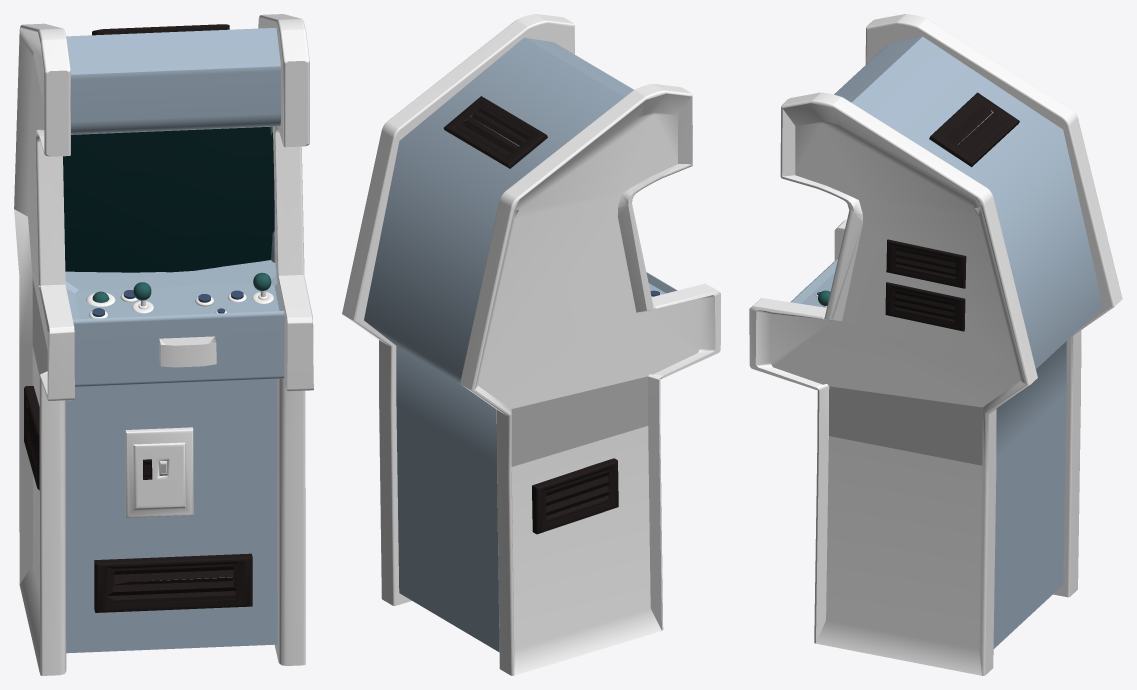
Rendered from arcade.glb.
The picture shows the model from 3 angles, left to right: view 1: azimuth 30°, elevation 25°; view 2: azimuth 150°, elevation 25°; view 3: azimuth 270°, elevation 25°; orthographic projection. The views are drawn at different scales.
Parts seen in each view (by area): view 1: ArcadeNSanou1:group10; view 2: ArcadeNSanou1:group10; view 3: ArcadeNSanou1:group10.
Boxes of the visible parts, left/top/right/bottom form: ArcadeNSanou1:group10: left=14, top=14, right=313, bottom=675; ArcadeNSanou1:group10: left=342, top=14, right=720, bottom=675; ArcadeNSanou1:group10: left=749, top=14, right=1122, bottom=675.
Bounding box in the file's own units: 4.5 × 8.09 × 5.04.
